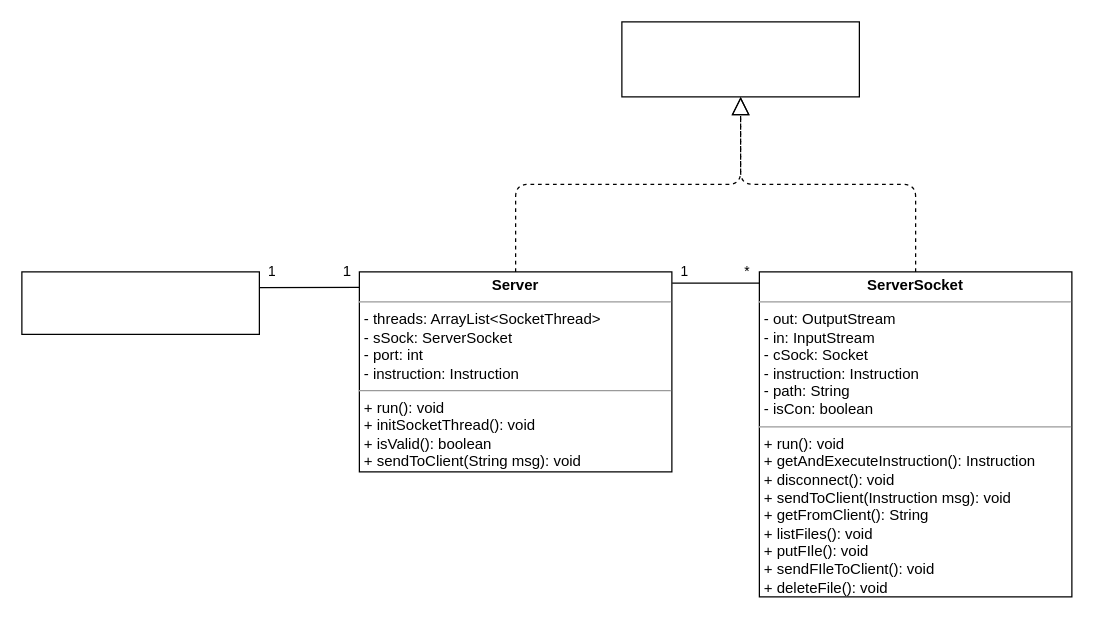
This 1094x619 diagram has some shape labels left out. The shapes that lost their labels are listed below. From the top down, each one's centre as x and y in pixels, then its label:
[740,59]: Thread ...
[140,302]: LaunchServer + main(String[] args): void
